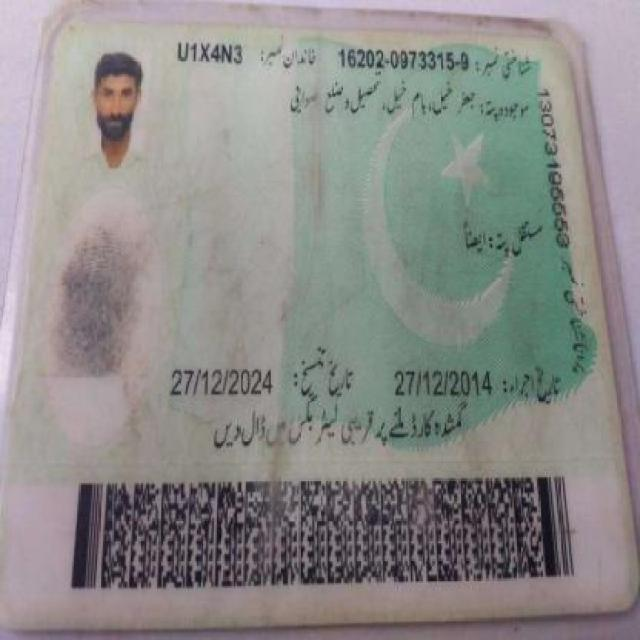Back: (25, 17, 612, 608)
